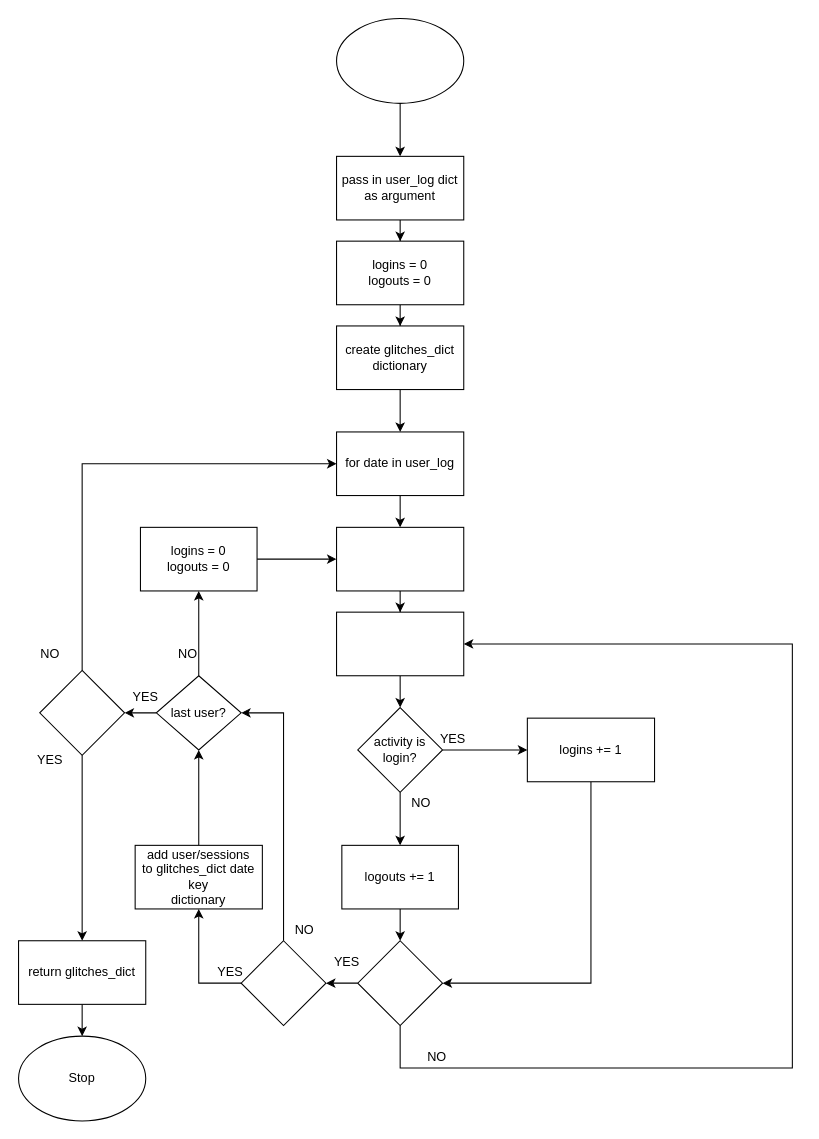
The diagram is 819 pixels wide and 1139 high, and some of its shapes have lost their labels. Here are the shapes that lost their labels. From the top down, the centre of each, then its label:
[399,60]: Start
[399,558]: for each user in date
[399,643]: for each session in user
[82,712]: last date?
[283,983]: logins < logouts?
[400,983]: last session?
